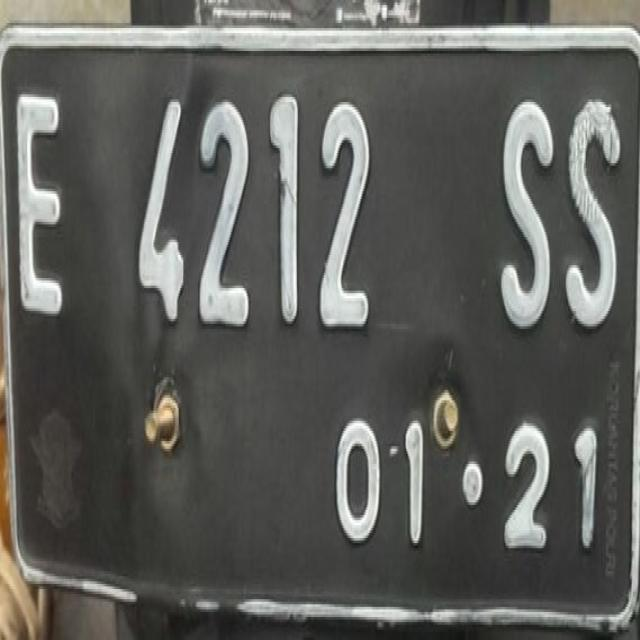plate: (1, 25, 640, 628)
